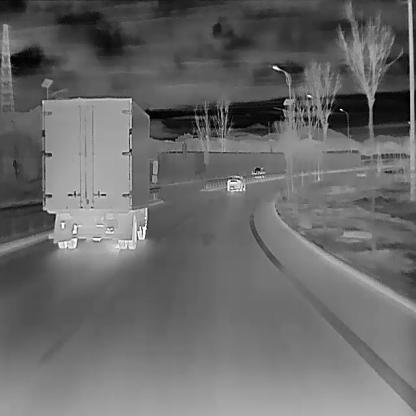car: (226, 174, 246, 191), (251, 165, 265, 178)
truck: (40, 95, 157, 248)
